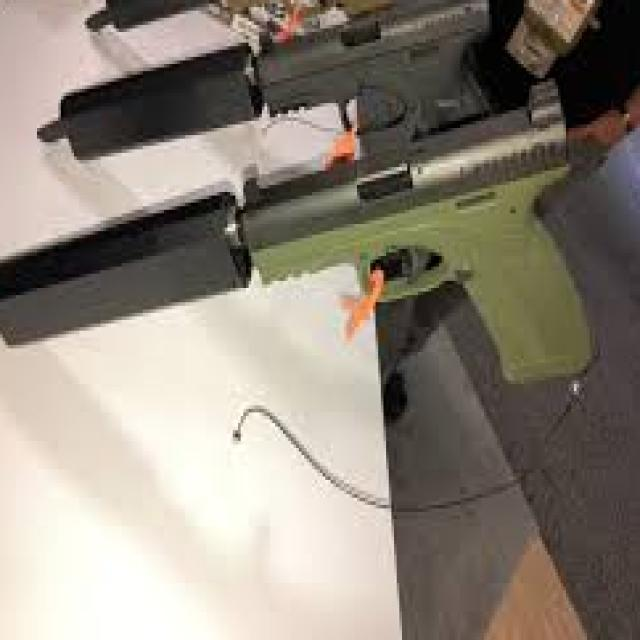Gun: (229, 86, 596, 414), (254, 1, 502, 234), (201, 0, 405, 68)
